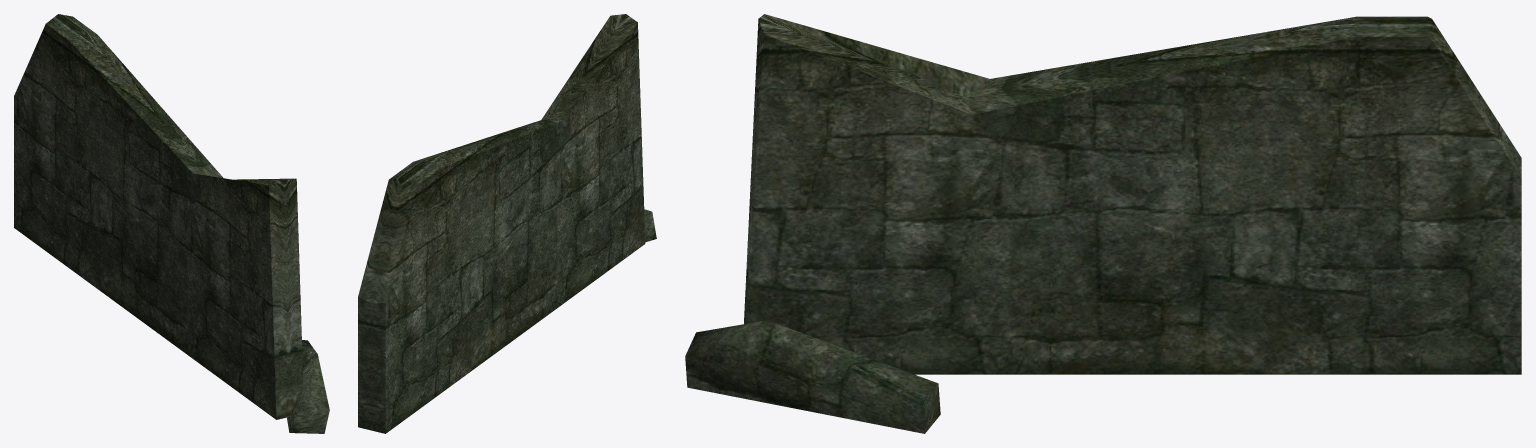
The model's file is thm_dant_jedi_wall_2_l3.fbx.
The picture shows the model from 3 angles, left to right: view 1: azimuth 30°, elevation 25°; view 2: azimuth 150°, elevation 25°; view 3: azimuth 270°, elevation 25°; orthographic projection. The views are drawn at different scales.
Visible parts, largest first — view 1: mesh_node; view 2: mesh_node; view 3: mesh_node.
Boxes of the visible parts, x1=… form: mesh_node: x1=14, y1=14, x2=329, y2=433; mesh_node: x1=358, y1=14, x2=656, y2=433; mesh_node: x1=685, y1=14, x2=1521, y2=433.
Size of the model in its own units: 1.66 by 4.18 by 8.77.
